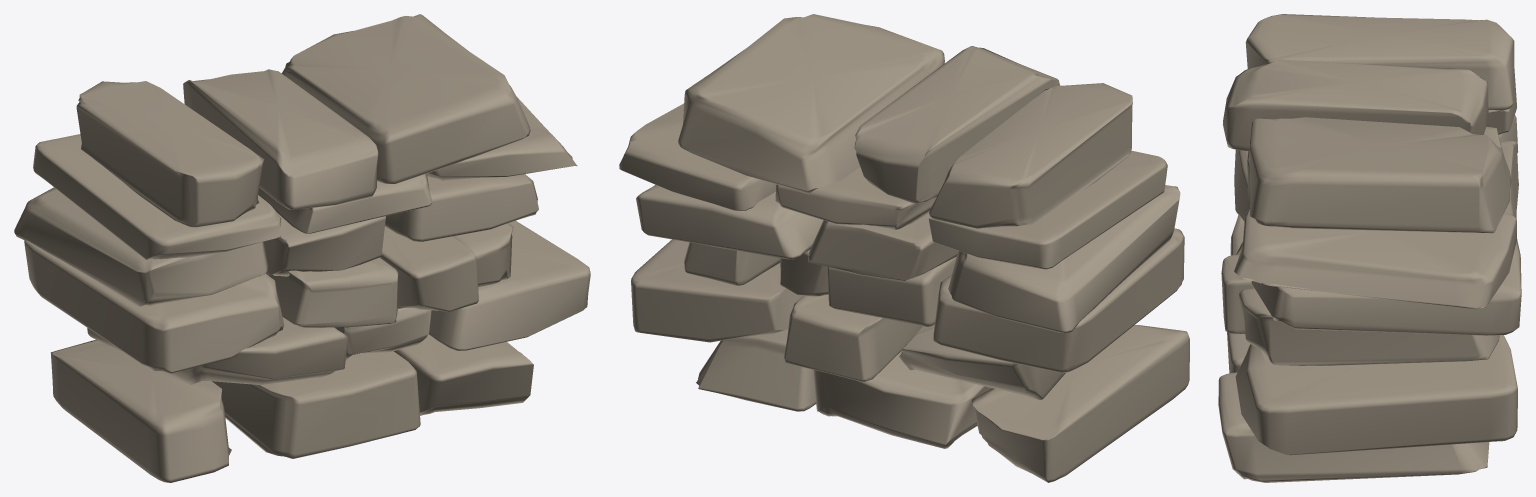
The model's file is landscape.rock.scar_a.glb.
3 views of the same model, side by side, from view 1: azimuth 30°, elevation 25°; view 2: azimuth 150°, elevation 25°; view 3: azimuth 270°, elevation 25° (orthographic).
Visible parts, largest first — view 1: main__stone_a98; view 2: main__stone_a98; view 3: main__stone_a98.
Boxes of the visible parts, x1,y1,x2,y2 form: main__stone_a98: [14, 14, 590, 482]; main__stone_a98: [619, 14, 1189, 482]; main__stone_a98: [1218, 14, 1521, 482].
Size of the model in its own units: 6.13 by 3.88 by 3.4.
